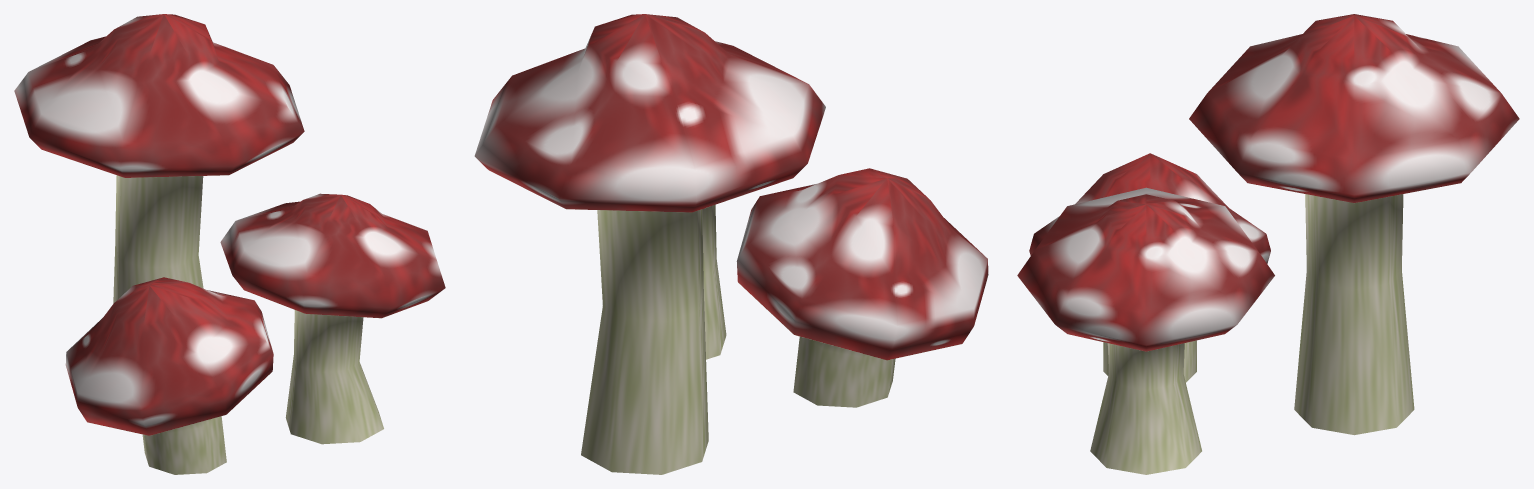
File: cave_shrooms_floor1.glb
3 views of the same model, side by side, from view 1: azimuth 30°, elevation 25°; view 2: azimuth 150°, elevation 25°; view 3: azimuth 270°, elevation 25° (orthographic). The views are drawn at different scales.
Visible parts, largest first — view 1: floor_shroom1-col; view 2: floor_shroom1-col; view 3: floor_shroom1-col.
Part boxes in pixels (bbox=[...]): floor_shroom1-col: bbox=[14, 14, 445, 474]; floor_shroom1-col: bbox=[474, 14, 988, 474]; floor_shroom1-col: bbox=[1017, 14, 1519, 474].
Bounding box in the file's own units: 1.06 × 1.02 × 1.18.
1 material, 1 textured.
